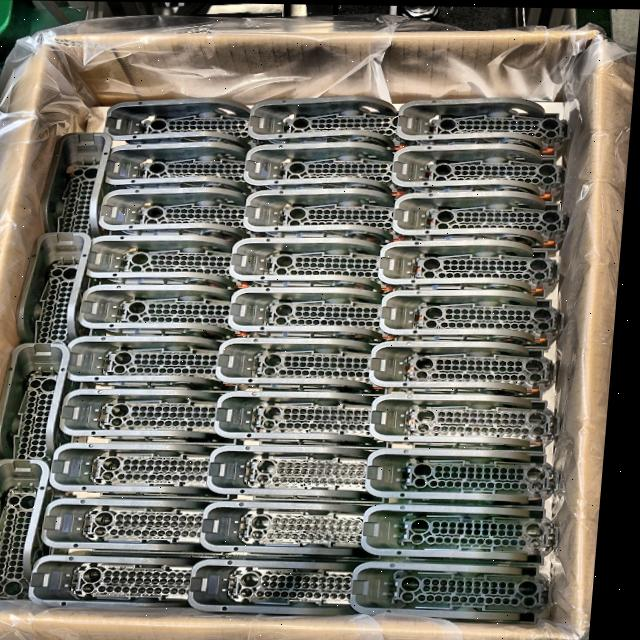P38: (359, 560, 563, 623), (208, 500, 407, 562), (0, 343, 102, 461), (371, 502, 568, 563), (222, 337, 420, 397), (376, 392, 568, 453), (220, 390, 407, 452), (374, 447, 568, 506), (234, 287, 428, 345), (66, 388, 253, 448), (0, 459, 79, 601), (375, 340, 563, 399), (246, 187, 432, 246), (384, 288, 570, 347), (398, 96, 572, 159), (382, 239, 565, 298), (233, 237, 420, 294), (395, 189, 571, 249), (246, 141, 428, 199), (49, 498, 231, 555), (38, 554, 223, 610), (21, 232, 110, 348), (214, 445, 395, 502), (394, 142, 568, 201), (56, 443, 239, 499), (71, 335, 244, 393), (90, 234, 266, 291), (198, 558, 374, 614), (250, 94, 419, 152), (84, 284, 252, 342), (101, 187, 262, 242), (107, 141, 260, 194), (106, 97, 255, 149), (43, 131, 114, 237)
